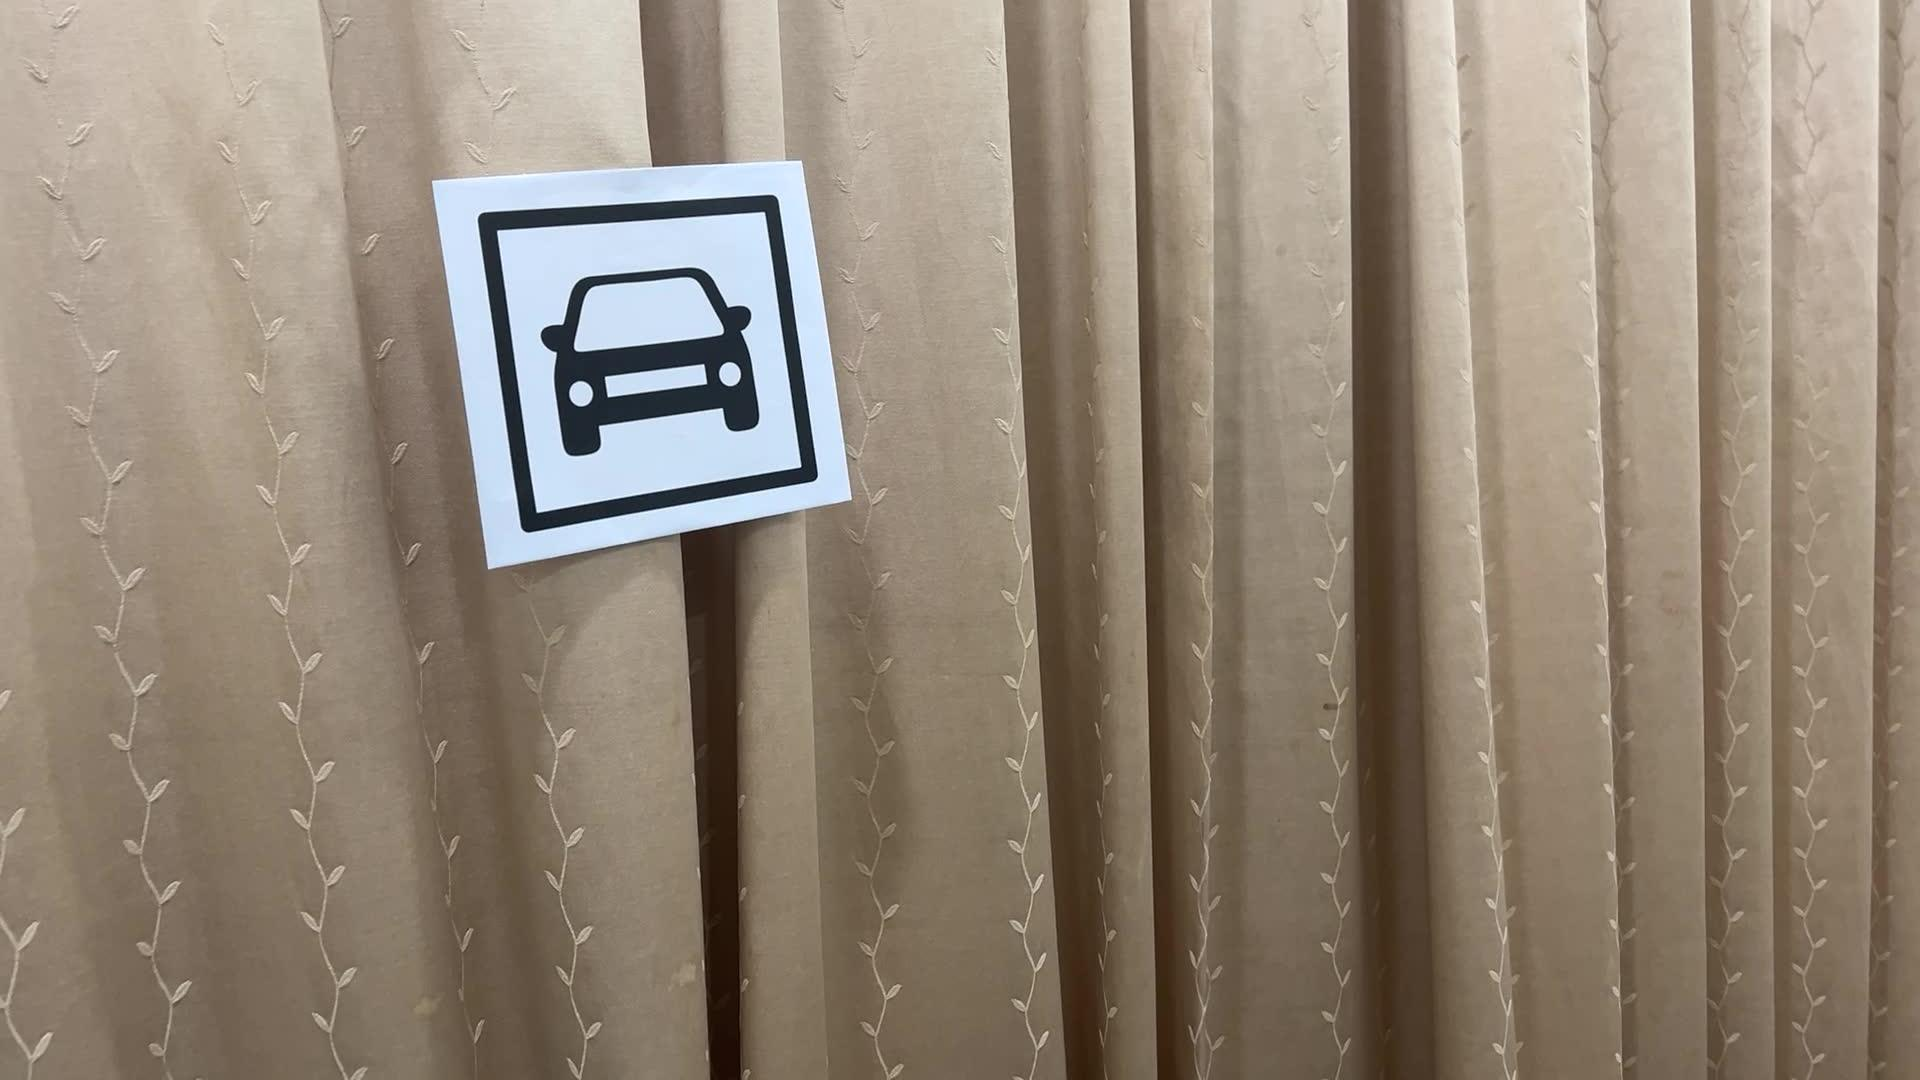car_img: (454, 187, 824, 541)
